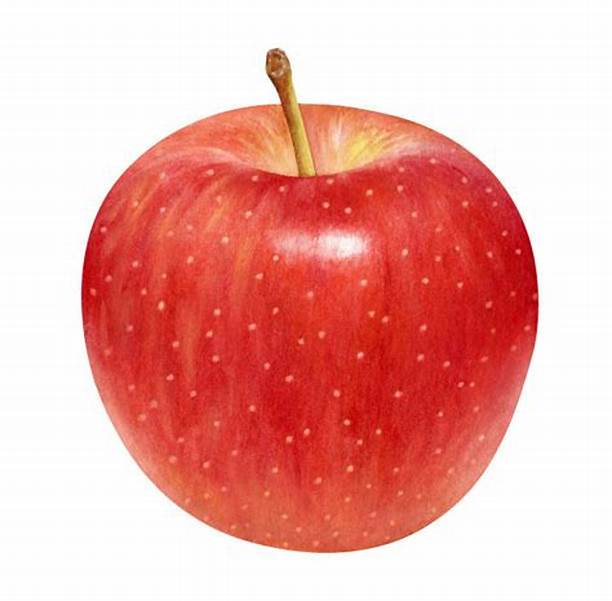apple: (80, 104, 537, 552)
